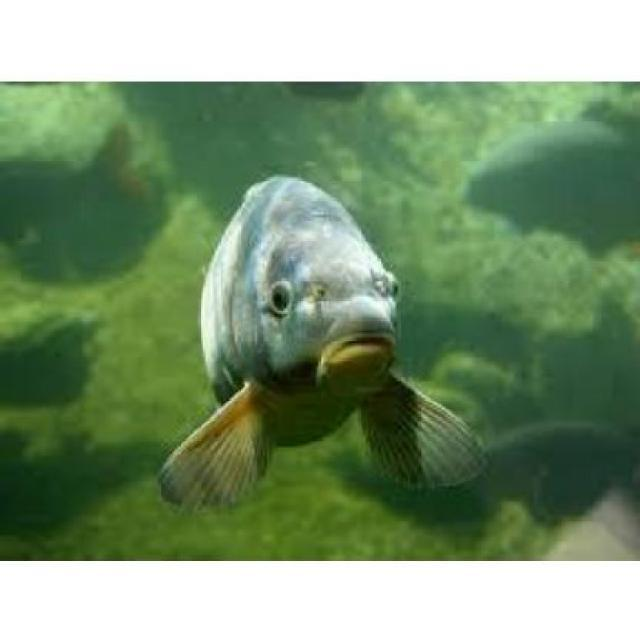ikan-mas: (160, 149, 440, 509)
